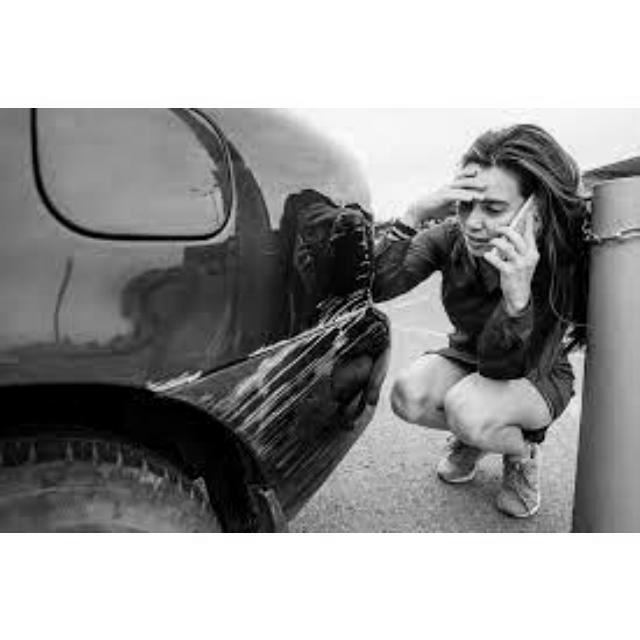quaterpanel-dent: (1, 108, 238, 489)
rear-bumper-dent: (96, 298, 442, 530)
